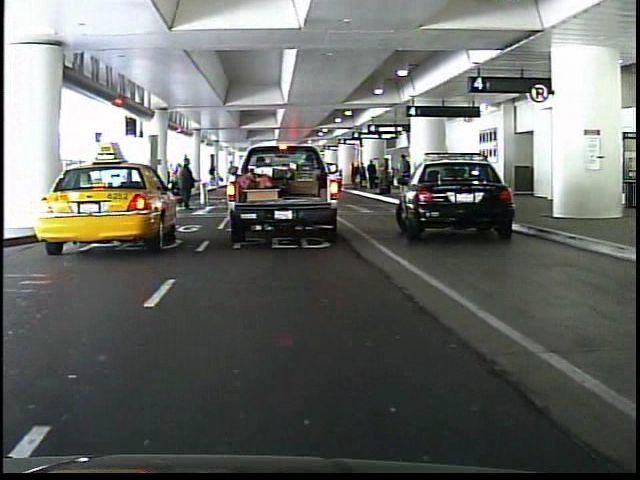person: (250, 146, 273, 202), (173, 153, 195, 211)
